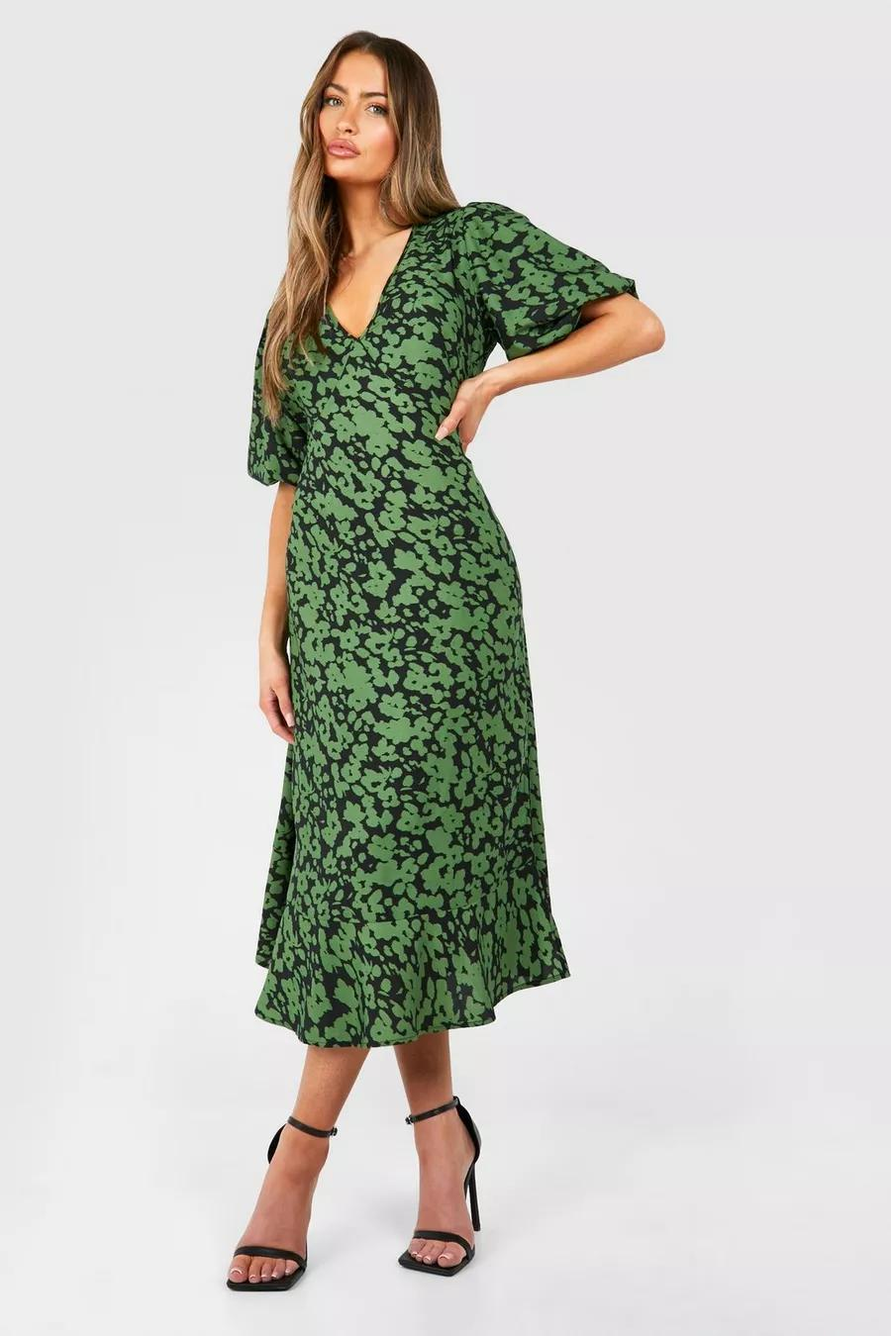dress: (240, 194, 644, 1053)
